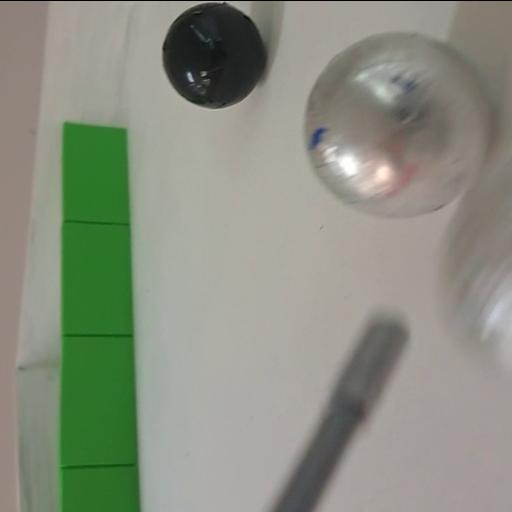alive: (302, 28, 494, 220), (442, 200, 512, 390)
dead: (162, 4, 267, 110)
